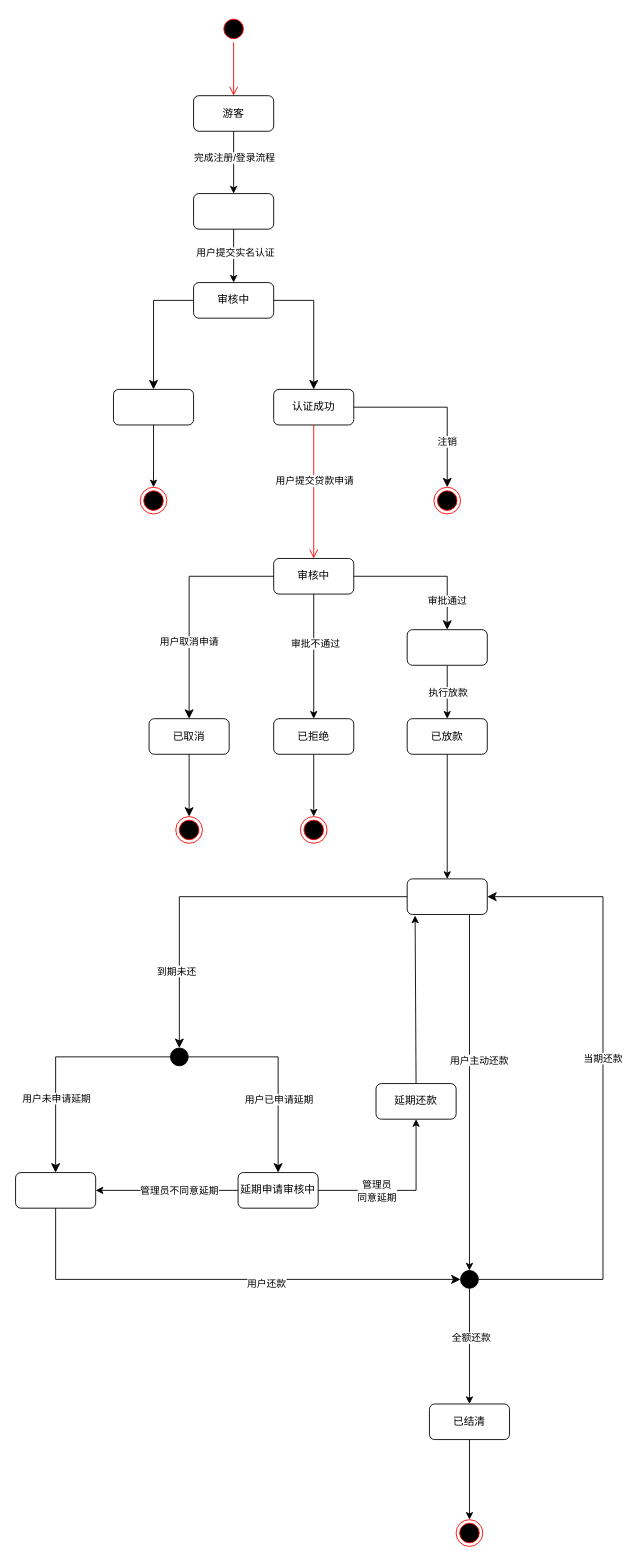
Some shapes in this 637 by 1562 pixel diagram are drawn without their labels. Here are the shapes that lost their labels. From the top down, the centre of each, then its label:
At point 233,211: "用户".
At point 153,406: "认证失败".
At point 446,647: "待放款".
At point 446,896: "待还款".
At point 55,1190: "催收中".
